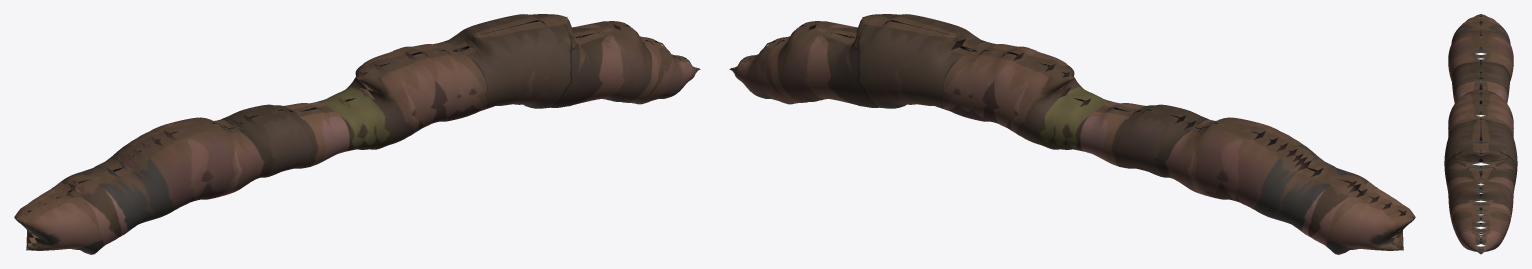
The model's file is north_escarpment.glb.
The picture shows the model from 3 angles, left to right: view 1: azimuth 30°, elevation 25°; view 2: azimuth 150°, elevation 25°; view 3: azimuth 270°, elevation 25°; orthographic projection. The views are drawn at different scales.
Parts seen in each view (by area): view 1: north_escarpment; view 2: north_escarpment; view 3: north_escarpment.
Part boxes in pixels (x1,y1,x2,y2): north_escarpment: [14, 14, 700, 254]; north_escarpment: [729, 14, 1415, 254]; north_escarpment: [1444, 14, 1517, 254].
Size of the model in its own units: 0.9805 by 0.1534 by 0.1326.
Materials: 1 (1 with a texture image).
